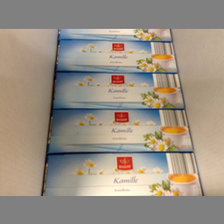tea: (46, 108, 198, 154), (40, 153, 203, 194), (52, 71, 186, 108), (56, 38, 180, 72)
